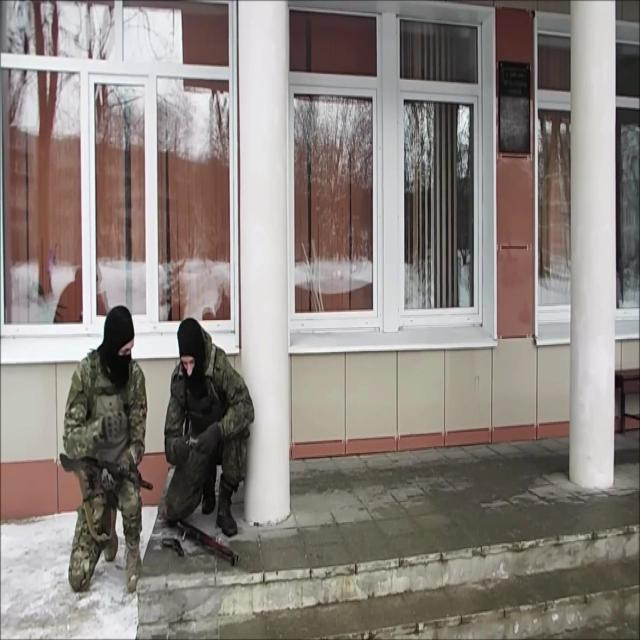pistol: (59, 450, 154, 510), (158, 500, 241, 568), (162, 535, 186, 560)
